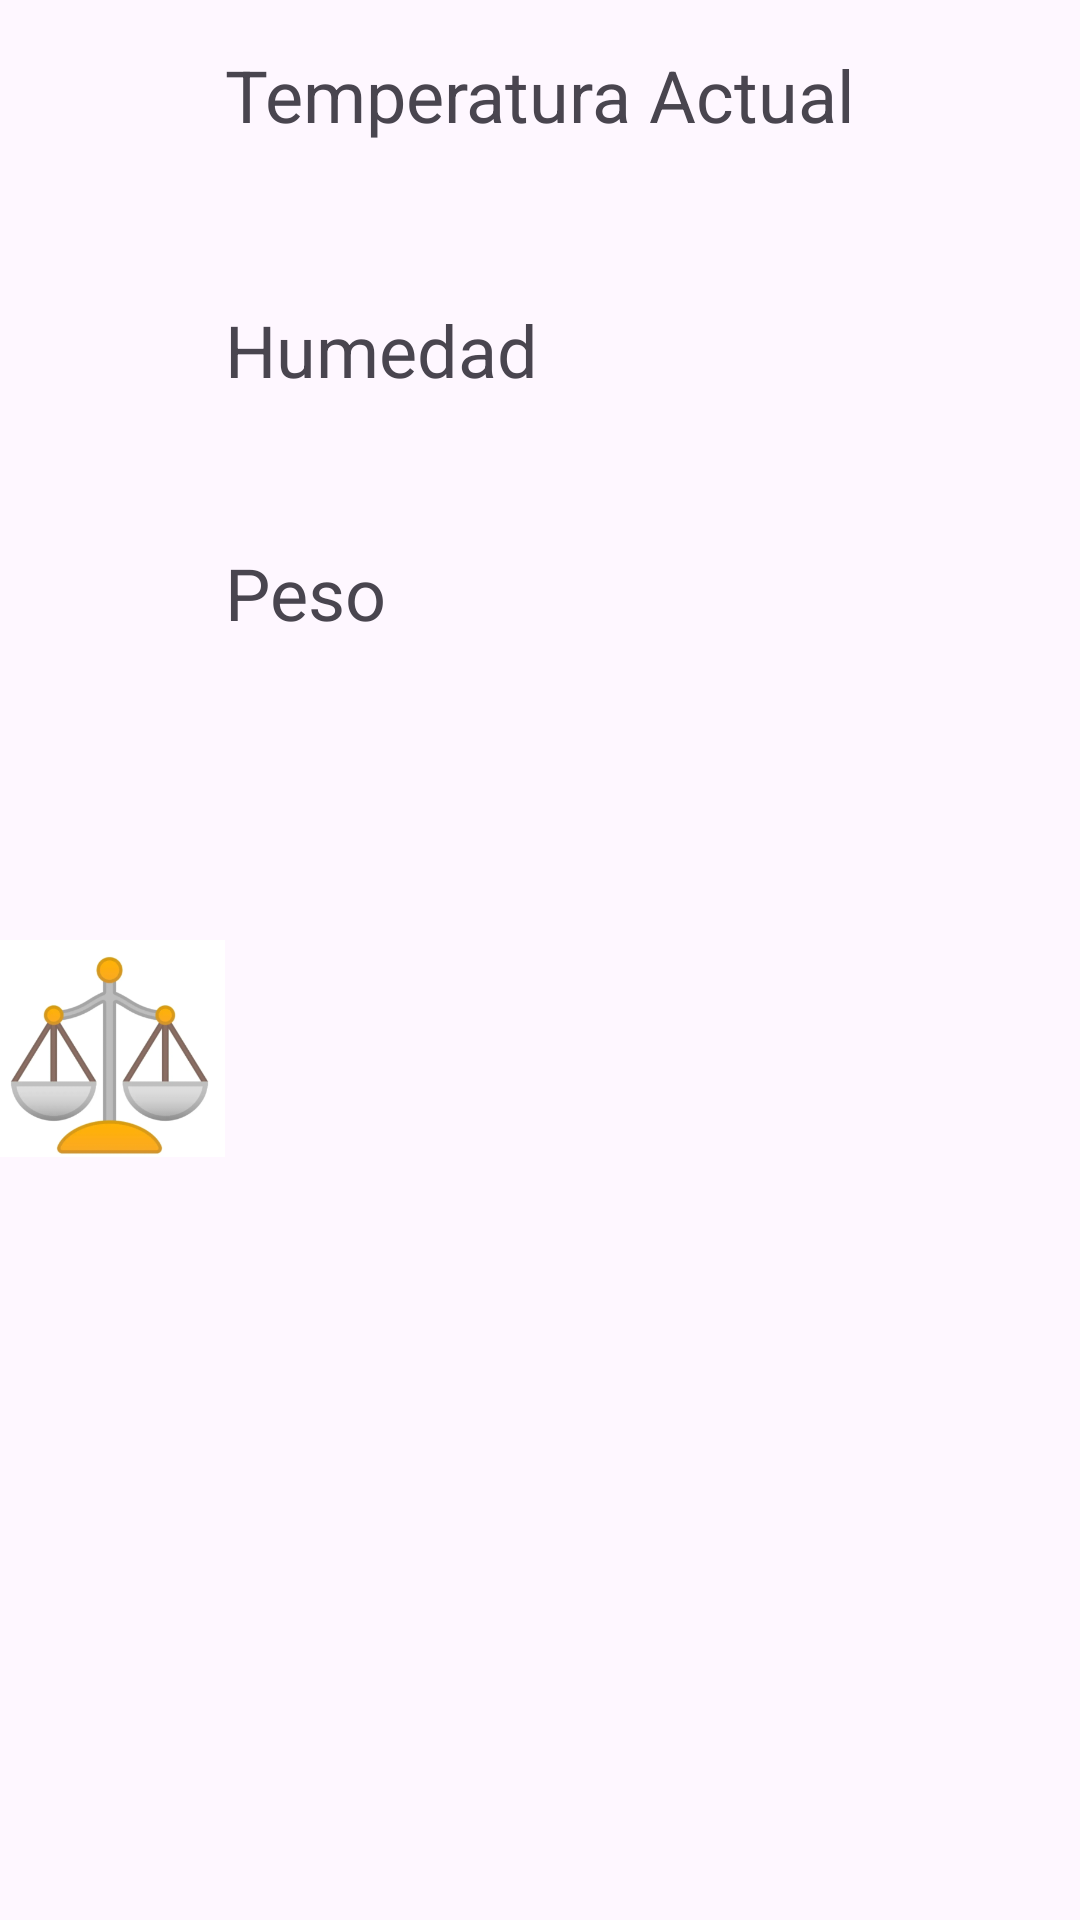

Screen size 1080*1920. Icon name, then its center in pixels as [x,y]:
weight: [109,1055]
